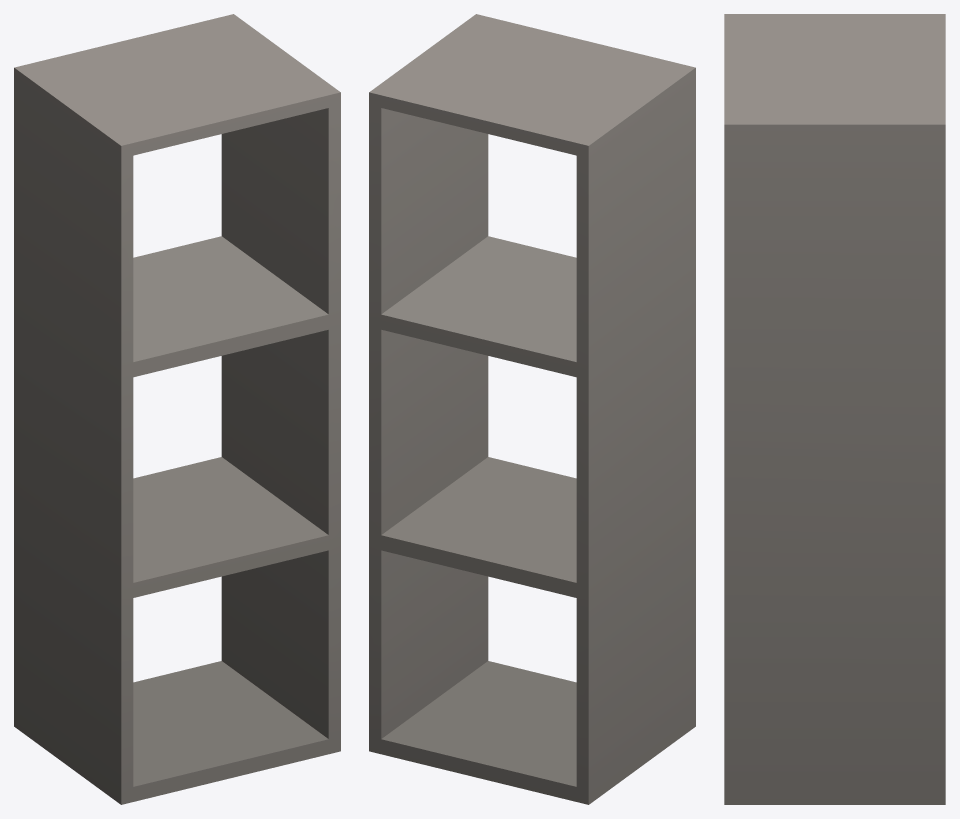
The model's file is Shelving_3Tier_Column_Grey.fbx.
3 renders of one model, left to right at view 1: azimuth 30°, elevation 25°; view 2: azimuth 150°, elevation 25°; view 3: azimuth 270°, elevation 25°, orthographic. The views are drawn at different scales.
Parts seen in each view (by area): view 1: Shelving_3Tier_Column_Grey; view 2: Shelving_3Tier_Column_Grey; view 3: Shelving_3Tier_Column_Grey.
Boxes of the visible parts, x1,y1,x2,y2 form: Shelving_3Tier_Column_Grey: [14, 14, 340, 804]; Shelving_3Tier_Column_Grey: [369, 14, 695, 804]; Shelving_3Tier_Column_Grey: [724, 14, 945, 804].
Bounding box in the file's own units: 41.8 × 120 × 35.28.
